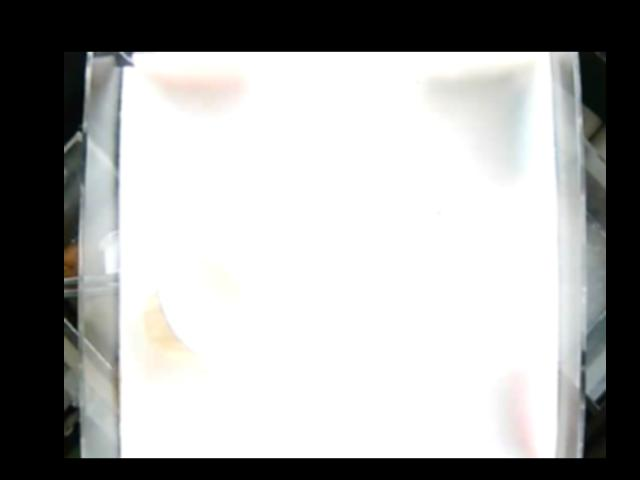Cup: (141, 243, 258, 366)
